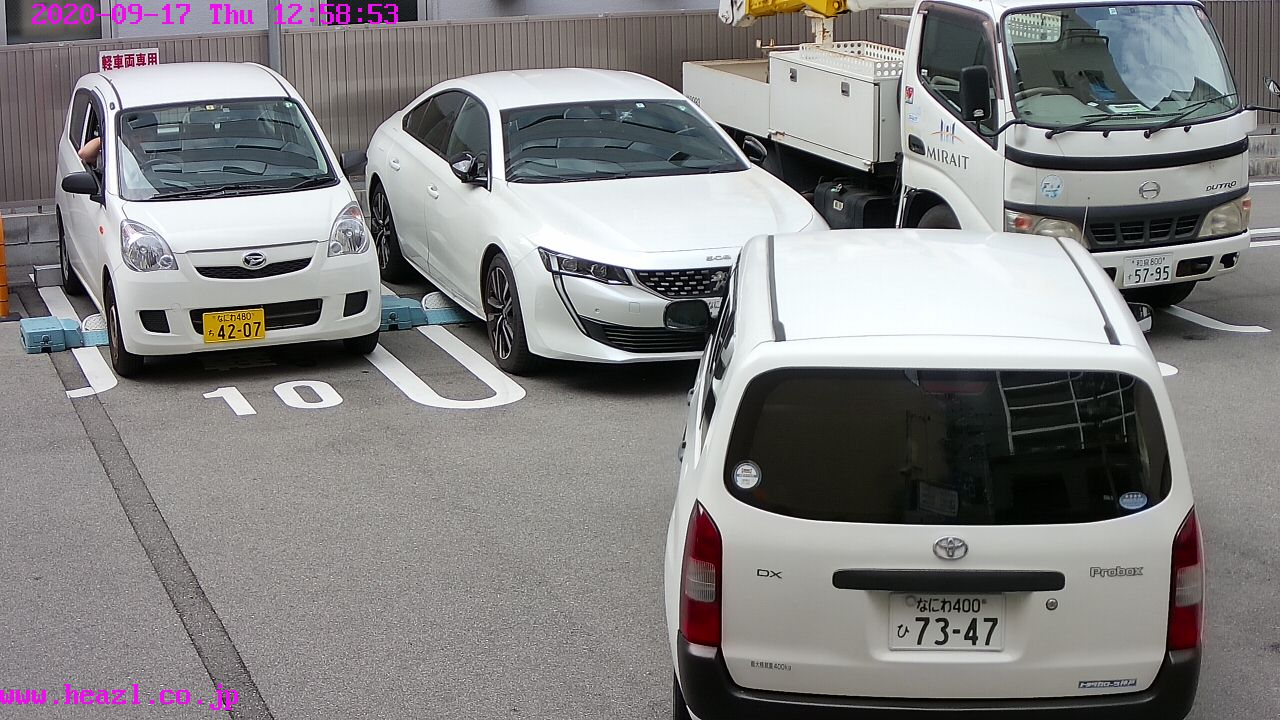number_plate: (889, 589, 1007, 651), (202, 310, 265, 340), (1125, 255, 1180, 285)
